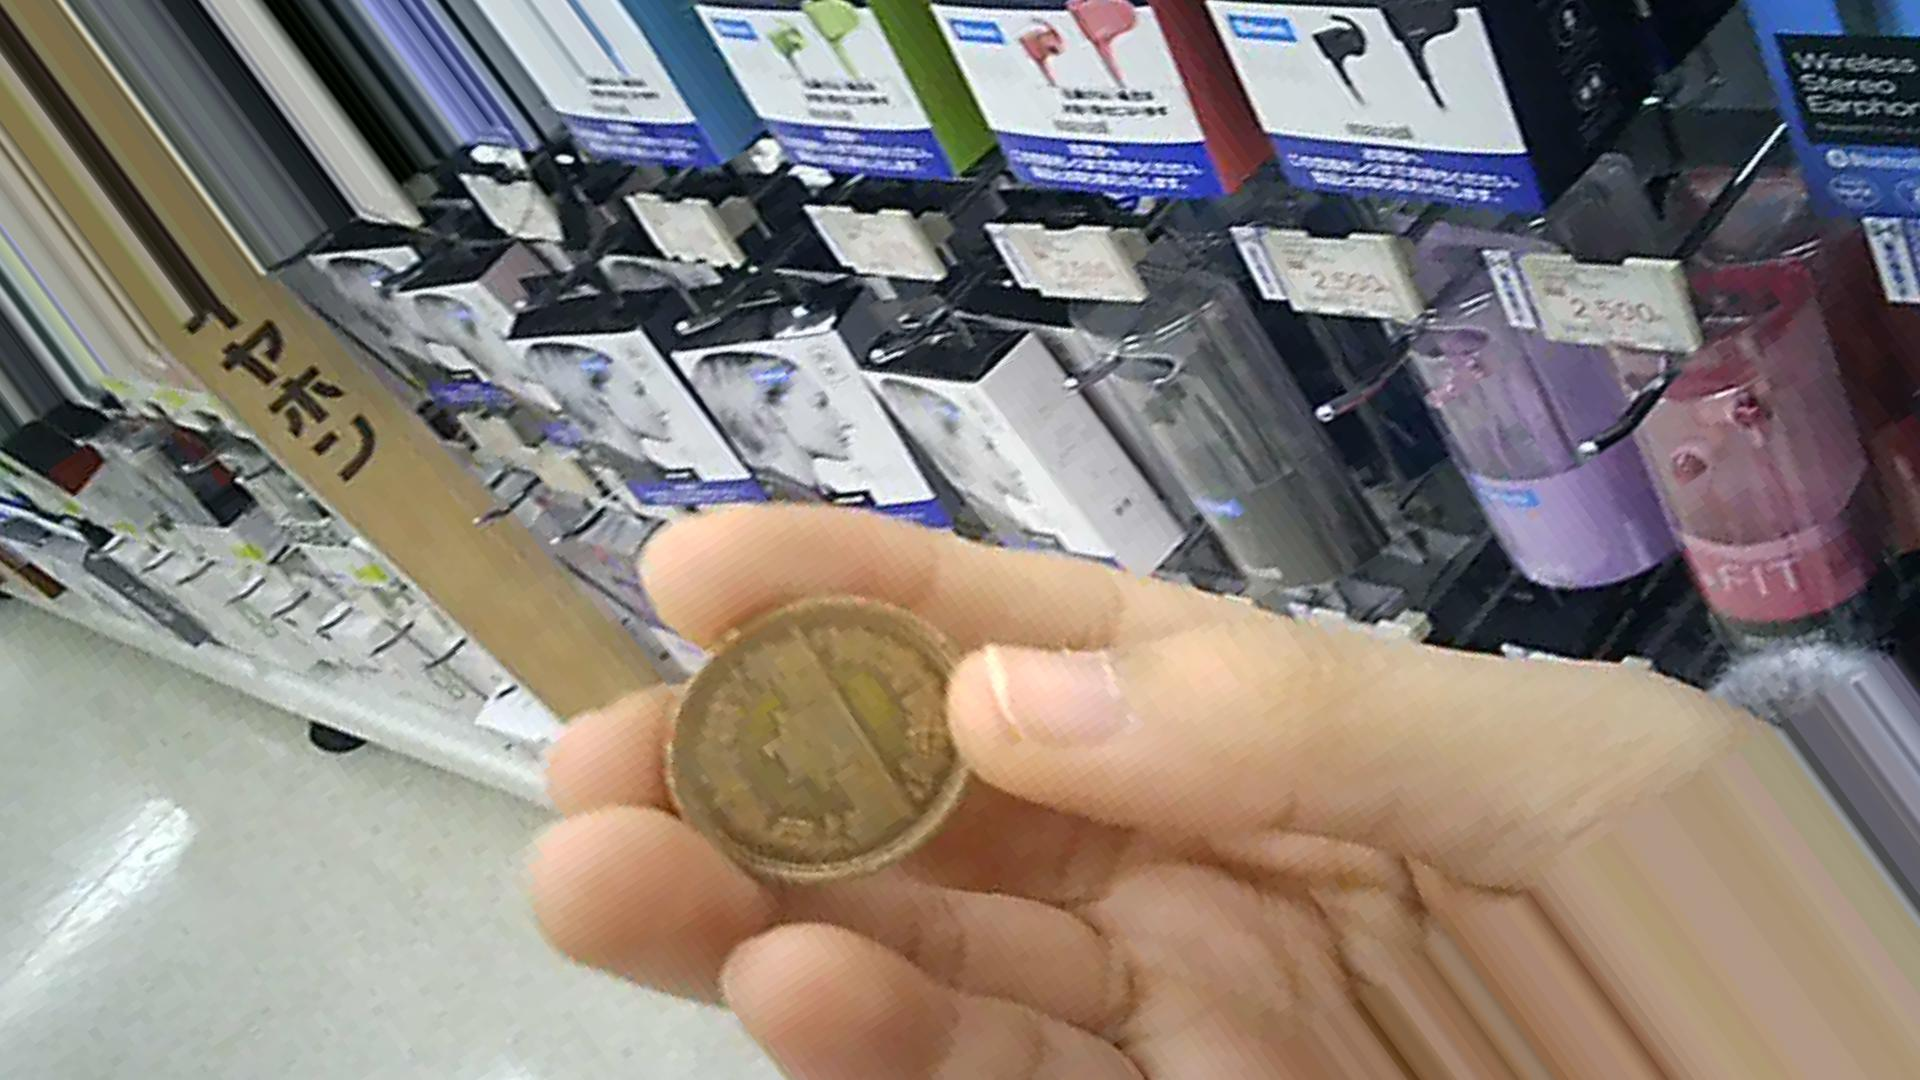10 Yen: (622, 580, 971, 889)
